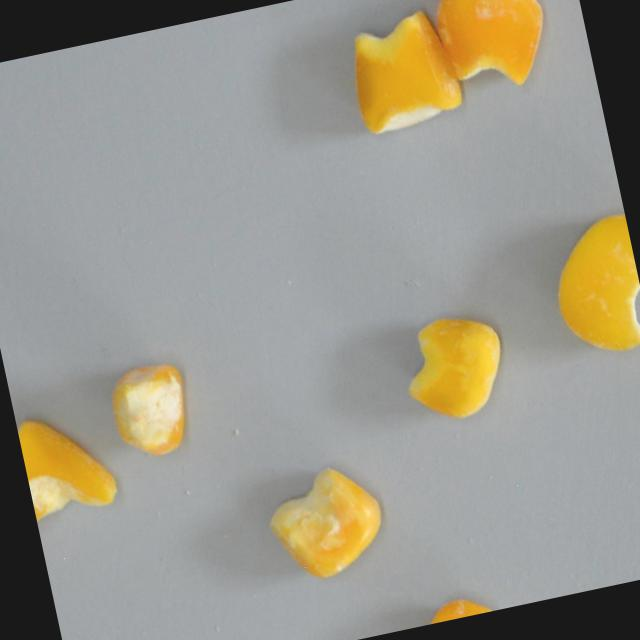dañado: (394, 308, 517, 430)
no_canjicado: (336, 4, 466, 140), (536, 208, 640, 364), (429, 0, 557, 102), (100, 357, 197, 465), (410, 588, 495, 627)
no_desgerminado: (14, 402, 123, 542)
pelicula: (257, 456, 392, 587)
